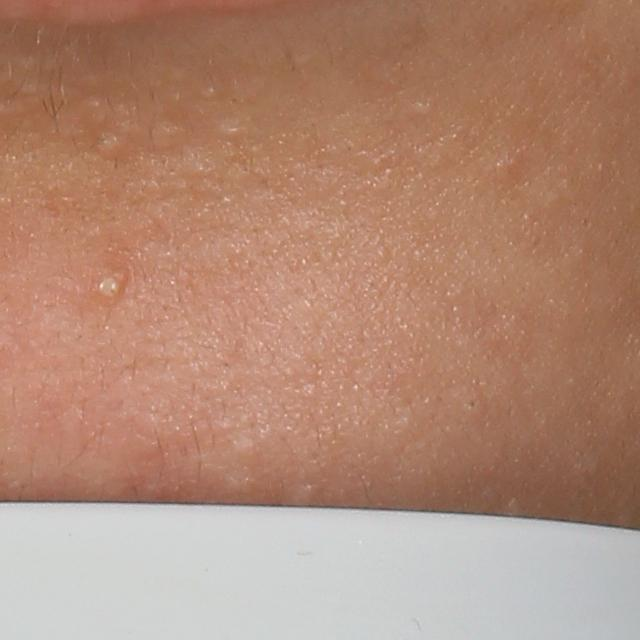comedo: (463, 395, 483, 413)
hypertrophic_scar: (89, 131, 127, 158), (147, 119, 188, 143), (220, 121, 250, 140), (200, 81, 223, 104)
pustule: (81, 261, 135, 311)
